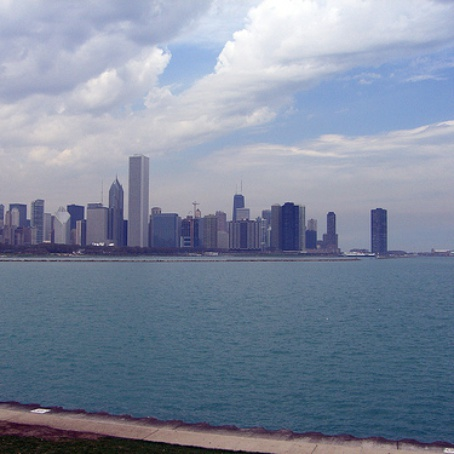building: (123, 149, 152, 249), (101, 173, 129, 247), (79, 197, 108, 245), (46, 197, 75, 245), (21, 196, 50, 244), (152, 206, 181, 254), (203, 204, 232, 252), (235, 199, 264, 247), (274, 200, 303, 248), (369, 205, 391, 251), (6, 195, 25, 247), (323, 208, 341, 250)
sea: (9, 258, 454, 454)
sky: (1, 1, 438, 244)
